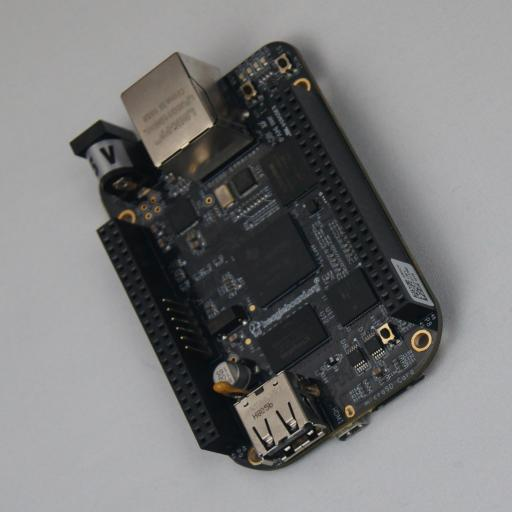Beaglebone Black: (70, 41, 448, 471)
